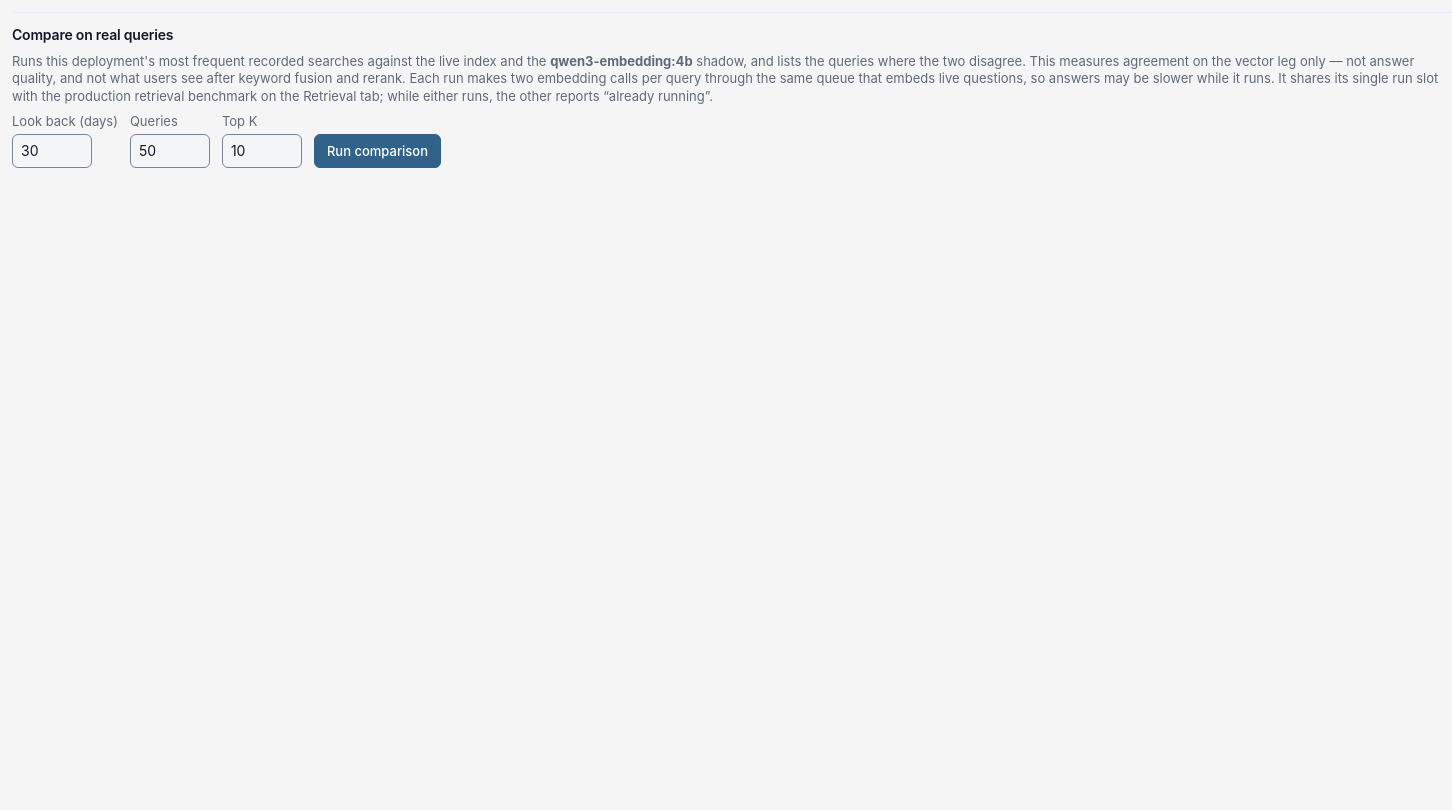
EmbeddingShadowCompareSection (#1260) › states that ties cannot produce a p-value instead of counting down past the floor
The image size is (1452, 810).
Click the button with test id "shadow-compare-start". click: (377, 151)
box: [314,134,441,168]
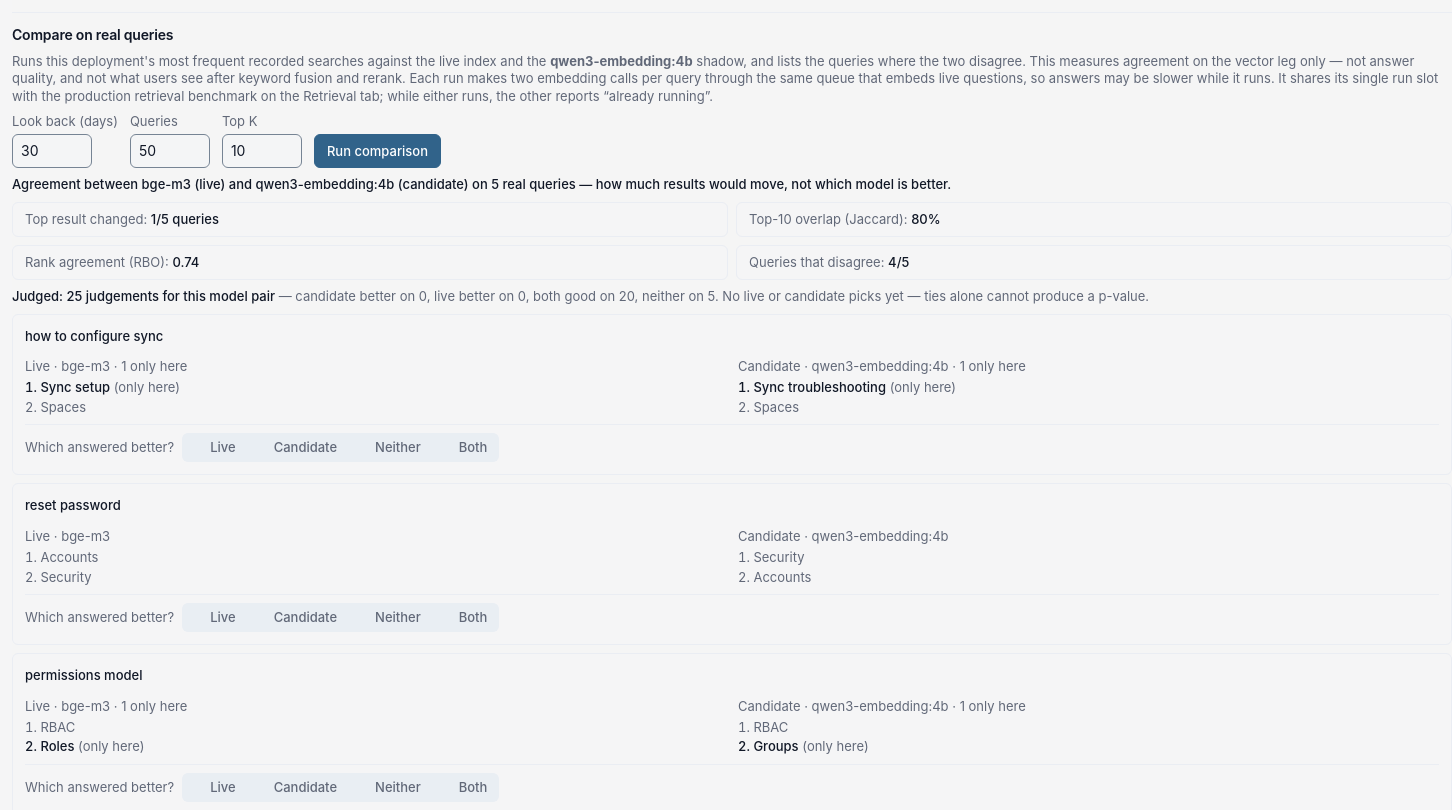
Expected: the element with test id "shadow-compare-verdict" does not show "25 of 20", [12,288,1149,304]
Expected: the element with test id "shadow-compare-result" is shown
Expected: the element with test id "shadow-compare-verdict" shows "ties alone cannot produce a p-value", [722,288,1149,304]
